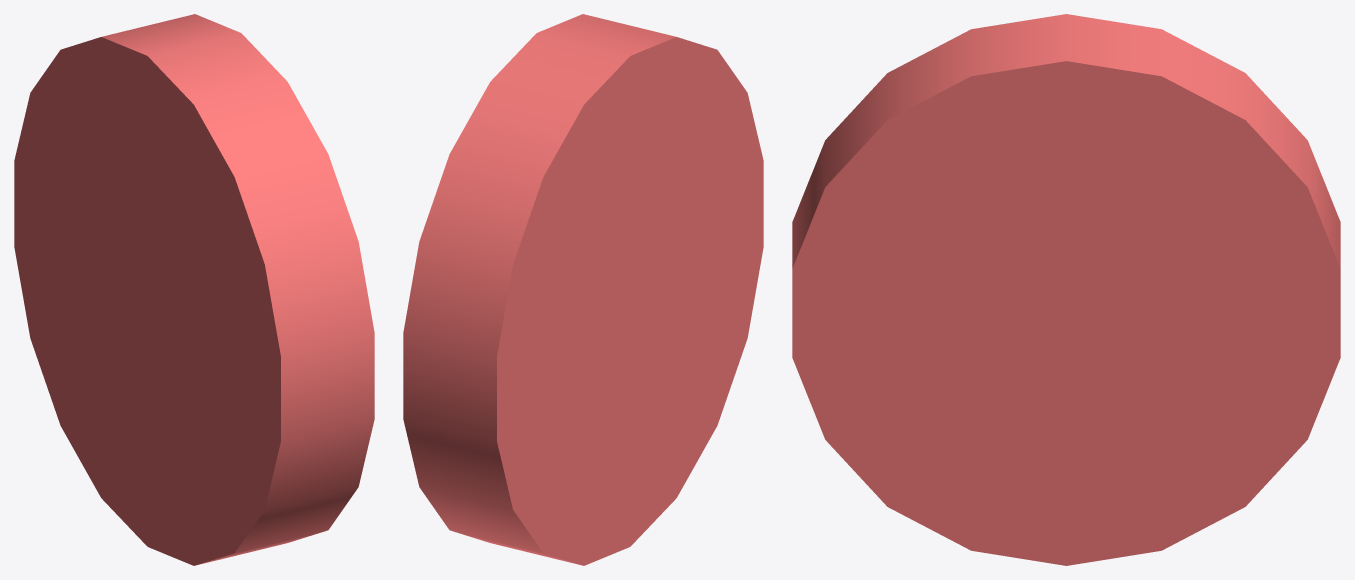
File: r_wheel_visual.obj
3 views of the same model, side by side, from view 1: azimuth 30°, elevation 25°; view 2: azimuth 150°, elevation 25°; view 3: azimuth 270°, elevation 25° (orthographic). The views are drawn at different scales.
Visible parts, largest first — view 1: r_wheel; view 2: r_wheel; view 3: r_wheel.
Boxes of the visible parts, x1,y1,x2,y2 form: r_wheel: [14, 14, 374, 565]; r_wheel: [403, 14, 763, 565]; r_wheel: [792, 14, 1340, 565].
Bounding box in the file's own units: 1 × 5 × 4.92.
